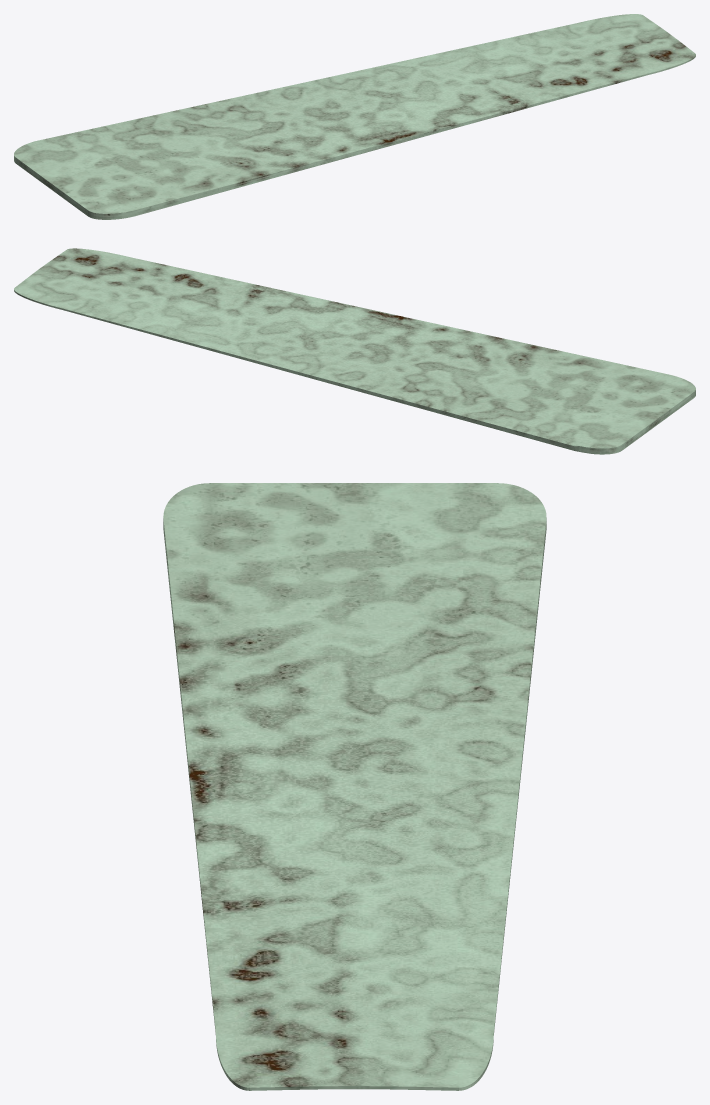
File: fanSpin.glb
3 views of the same model, one above another, from view 1: azimuth 30°, elevation 25°; view 2: azimuth 150°, elevation 25°; view 3: azimuth 270°, elevation 25° (orthographic). The views are drawn at different scales.
Visible parts, largest first — view 1: Cube.007; view 2: Cube.007; view 3: Cube.007.
Boxes of the visible parts, x1,y1,x2,y2 form: Cube.007: (14,14,695,219); Cube.007: (14,248,695,454); Cube.007: (163,483,546,1090).
Size of the model in its own units: 5.08 by 0.0478 by 1.36.
1 material, 1 textured.
